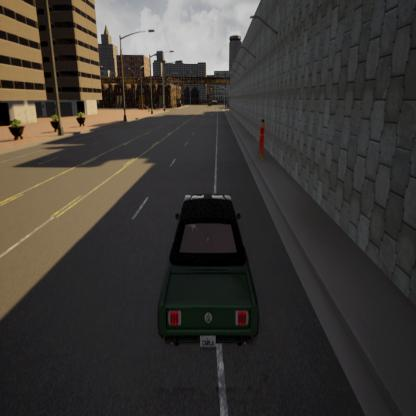Cars: (148, 180, 265, 356)
Pedestrian: (255, 112, 270, 160)
